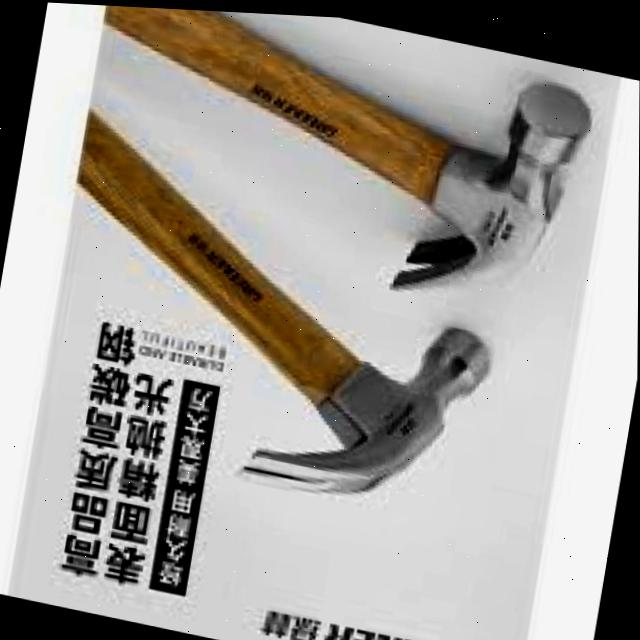hammer: (30, 79, 529, 537), (64, 3, 603, 328)
